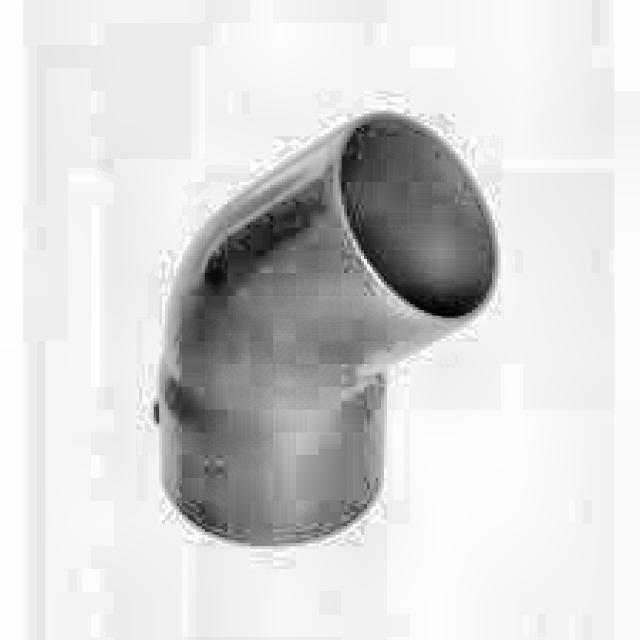ELBOW45: (154, 111, 503, 549)
